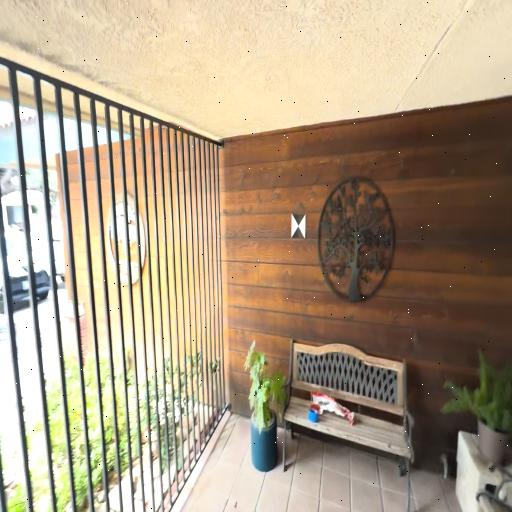target: (291, 214, 306, 238)
